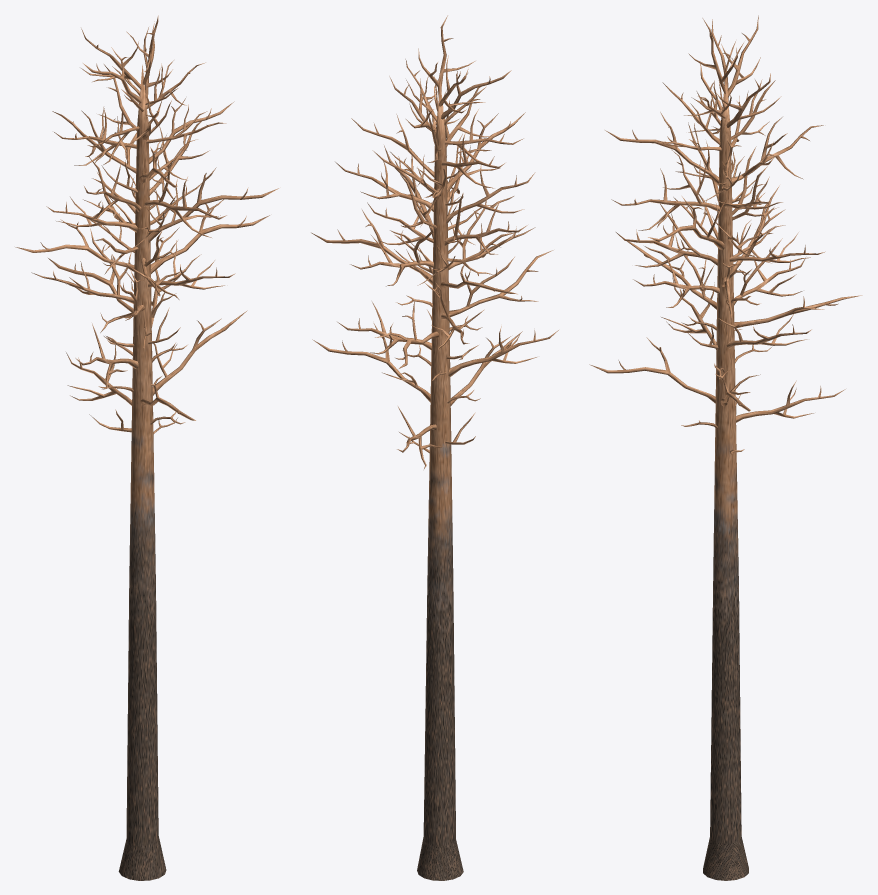
Rendered from Pine_01.fbx.
The picture shows the model from 3 angles, left to right: view 1: azimuth 30°, elevation 25°; view 2: azimuth 150°, elevation 25°; view 3: azimuth 270°, elevation 25°; orthographic projection. The views are drawn at different scales.
Parts seen in each view (by area): view 1: Pine_01; view 2: Pine_01; view 3: Pine_01.
Boxes of the visible parts, x1=… form: Pine_01: x1=15, y1=15, x2=278, y2=880; Pine_01: x1=311, y1=15, x2=558, y2=880; Pine_01: x1=589, y1=15, x2=862, y2=880.
Size of the model in its own units: 242 by 851 by 248.
Materials: 1 (1 with a texture image).
